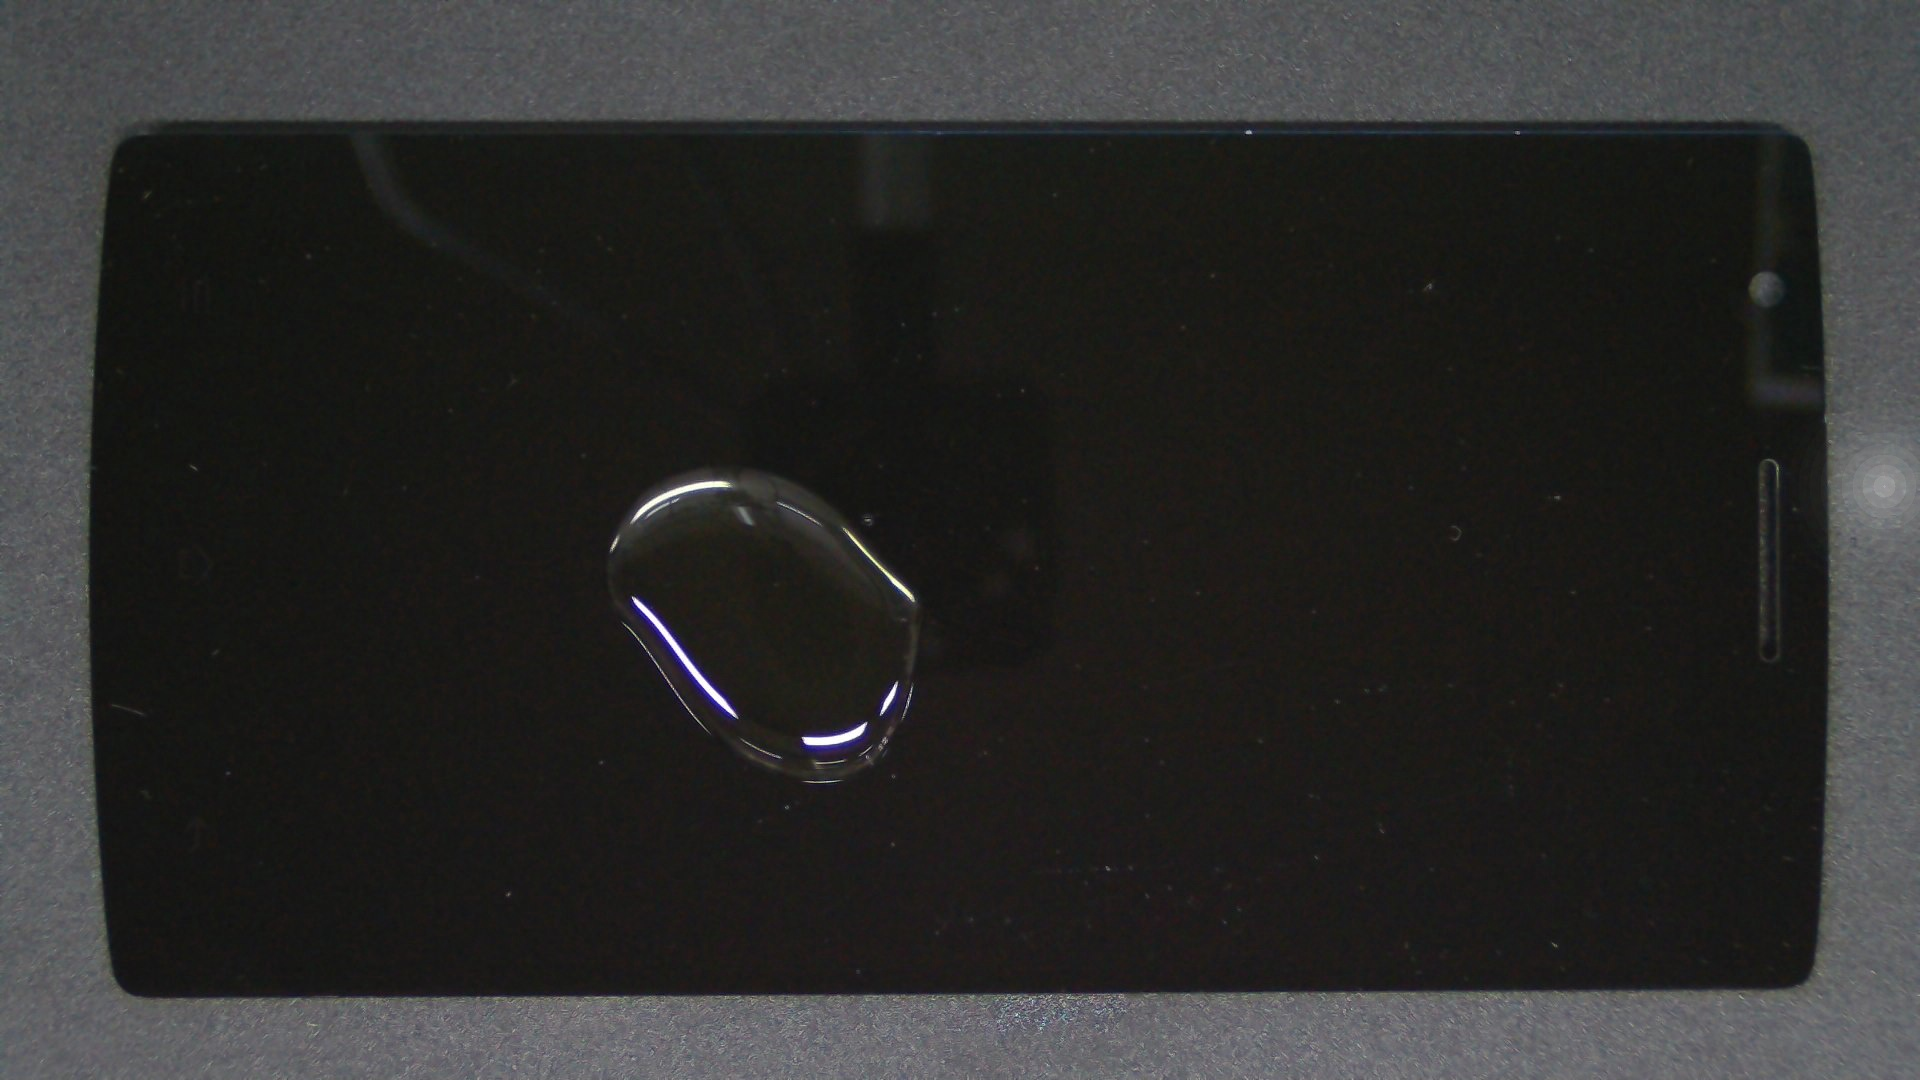oil: (356, 233, 1065, 702)
